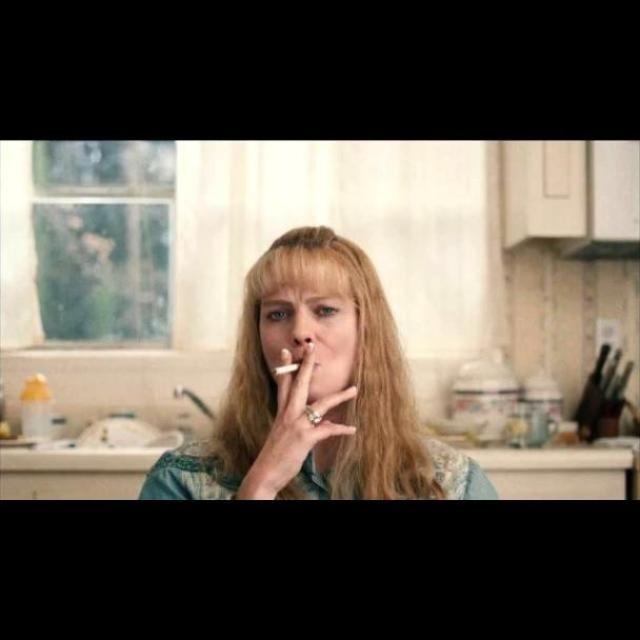rokok: (259, 358, 305, 376)
